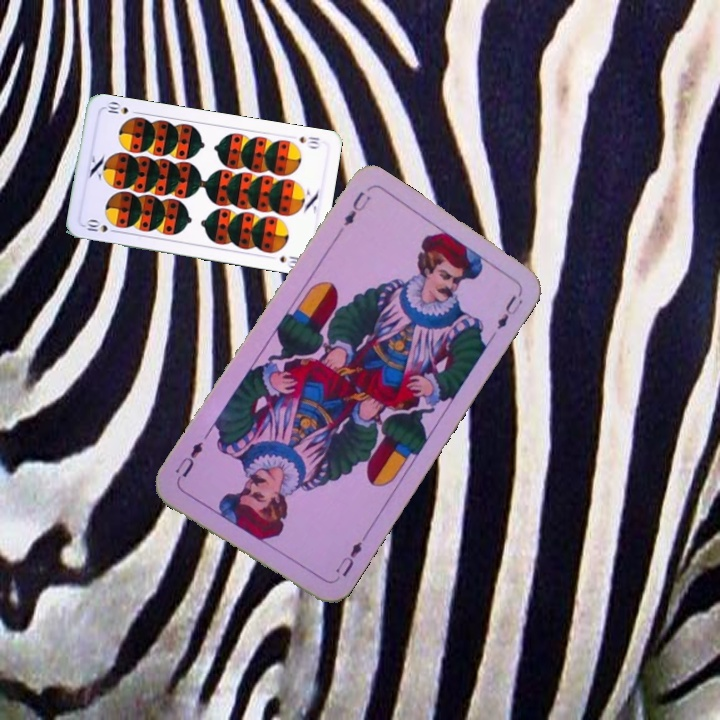EU: (331, 537, 365, 584), (339, 187, 373, 229)
S10: (80, 216, 121, 235), (295, 132, 323, 151)
